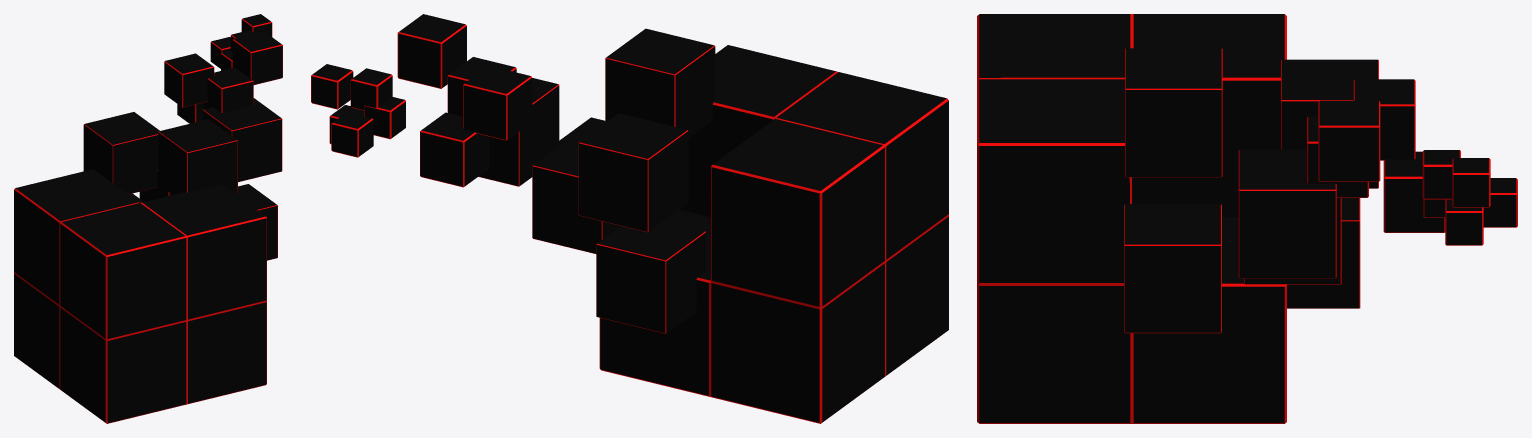
File: decomposition_export_3.fbx
3 renders of one model, left to right at view 1: azimuth 30°, elevation 25°; view 2: azimuth 150°, elevation 25°; view 3: azimuth 270°, elevation 25°, orthographic. The views are drawn at different scales.
Parts seen in each view (by area): view 1: pCube17; view 2: pCube17; view 3: pCube17.
Boxes of the visible parts, x1,y1,x2,y2 form: pCube17: [14, 14, 282, 423]; pCube17: [311, 14, 948, 423]; pCube17: [977, 14, 1517, 423].
Bounding box in the file's own units: 13.84 × 10.14 × 12.6.
